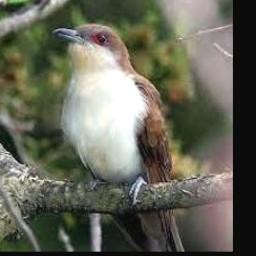Cuckoo: (52, 24, 185, 251)
